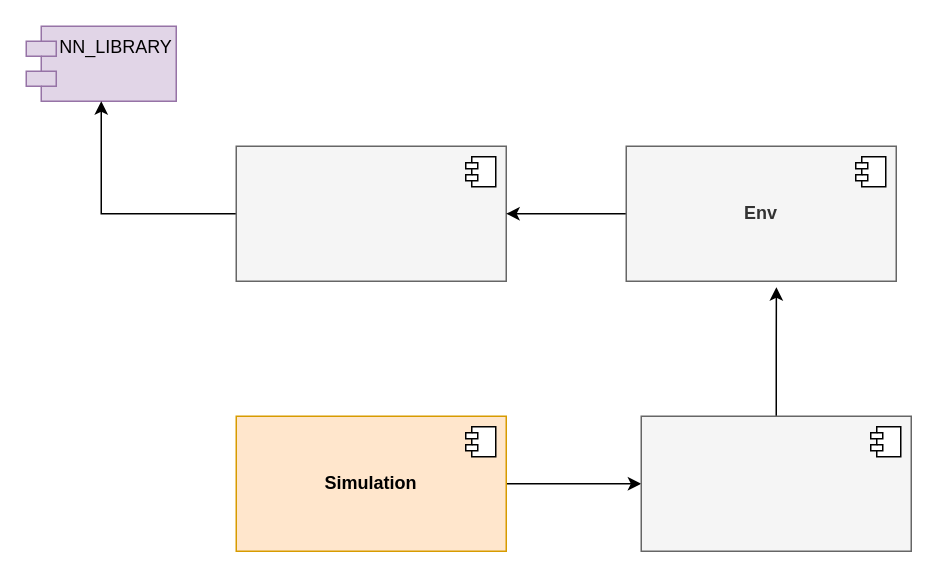
Image size: 938x578. Some labels were removed from this diagram. Each missing label, with the centre of its shape:
"Organism" belongs at (x=370, y=213).
"Train" belongs at (x=775, y=483).
